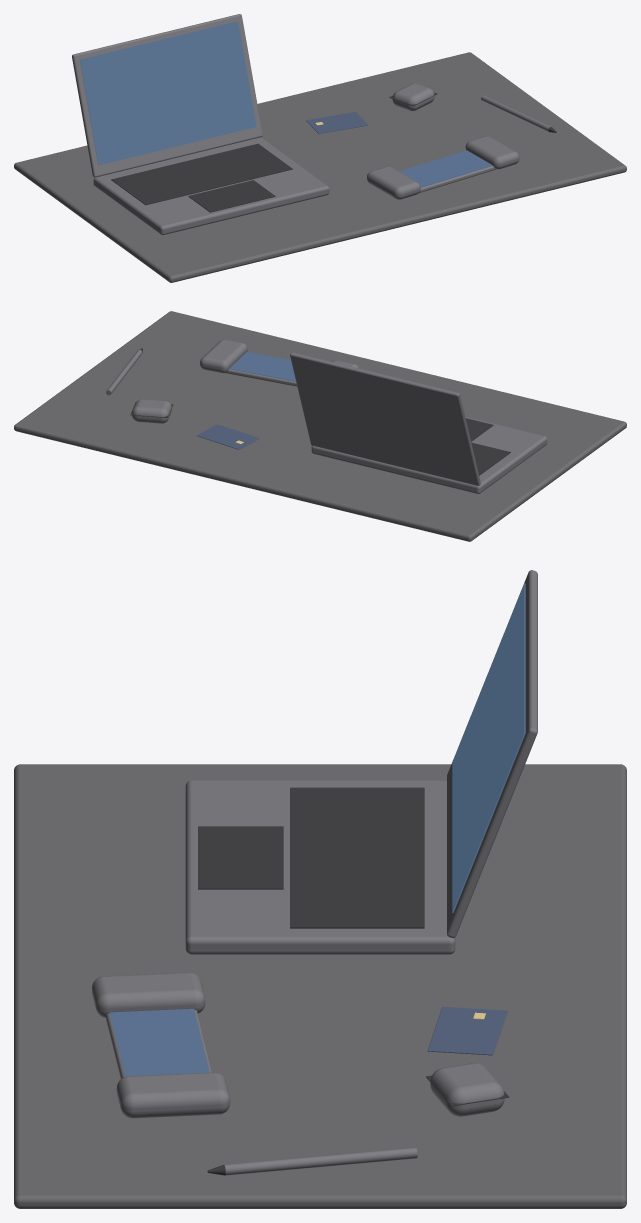
Rendered from device-bundle.glb.
The picture shows the model from 3 angles, top to bottom: view 1: azimuth 30°, elevation 25°; view 2: azimuth 150°, elevation 25°; view 3: azimuth 270°, elevation 25°; orthographic projection. The views are drawn at different scales.
Visible parts, largest first — view 1: Mat, Laptop_Screen, Laptop_Base, Laptop_Keyboard, Laptop_Lid, Phone_Screen, Laptop_Trackpad, Phone_GripLeft, Phone_GripRight, EarbudsCase_Body, Card_Body, Stylus_Body (+1 smaller); view 2: Mat, Laptop_Lid, Laptop_Base, Phone_Screen, Phone_GripRight, EarbudsCase_Body, Card_Body, Laptop_Keyboard, Phone_Body, Laptop_Trackpad, Stylus_Body; view 3: Mat, Laptop_Base, Laptop_Keyboard, Laptop_Screen, Laptop_Lid, Phone_Screen, Laptop_Trackpad, Phone_GripRight, Phone_GripLeft, Card_Body, EarbudsCase_Body, Stylus_Body.
Part boxes in pixels (box(x1,y1,x2,y2)): Mat: box(14, 52, 626, 282); Laptop_Screen: box(80, 21, 256, 165); Laptop_Base: box(93, 137, 329, 235); Laptop_Keyboard: box(111, 143, 292, 205); Laptop_Lid: box(72, 14, 262, 177); Phone_Screen: box(399, 150, 492, 187); Laptop_Trackpad: box(188, 180, 275, 212); Phone_GripLeft: box(367, 166, 420, 199); Phone_GripRight: box(465, 136, 519, 169); EarbudsCase_Body: box(392, 83, 434, 111); Card_Body: box(306, 112, 368, 133); Stylus_Body: box(481, 95, 550, 131); Mat: box(14, 311, 626, 541); Laptop_Lid: box(290, 352, 480, 485); Laptop_Base: box(311, 416, 547, 493); Phone_Screen: box(229, 352, 295, 381); Phone_GripRight: box(200, 339, 247, 373); EarbudsCase_Body: box(132, 399, 171, 423); Card_Body: box(196, 424, 259, 449); Laptop_Keyboard: box(471, 442, 510, 475); Phone_Body: box(226, 369, 297, 386); Laptop_Trackpad: box(465, 418, 493, 441); Stylus_Body: box(106, 349, 142, 395); Mat: box(14, 764, 626, 1208); Laptop_Base: box(185, 780, 455, 954); Laptop_Keyboard: box(290, 787, 424, 928); Laptop_Screen: box(452, 583, 525, 912); Laptop_Lid: box(447, 570, 537, 938); Phone_Screen: box(109, 1008, 209, 1076); Laptop_Trackpad: box(198, 826, 283, 889); Phone_GripRight: box(116, 1072, 230, 1118); Phone_GripLeft: box(92, 972, 205, 1017); Card_Body: box(427, 1006, 507, 1055); EarbudsCase_Body: box(430, 1063, 504, 1116); Stylus_Body: box(224, 1147, 417, 1175).
Bounding box in the file's own units: 0.84 × 0.2164 × 0.5.
